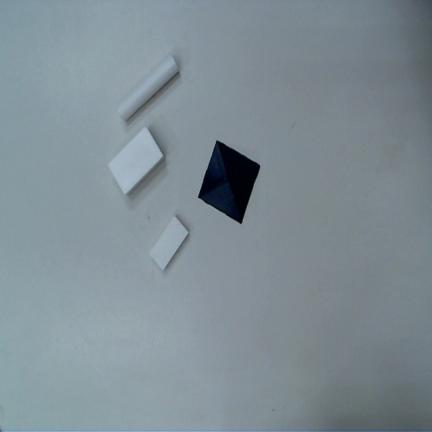Cilindro: (119, 56, 178, 121)
Paralelepipedo: (108, 125, 167, 196), (150, 216, 188, 270)
Piramide: (198, 140, 261, 225)
